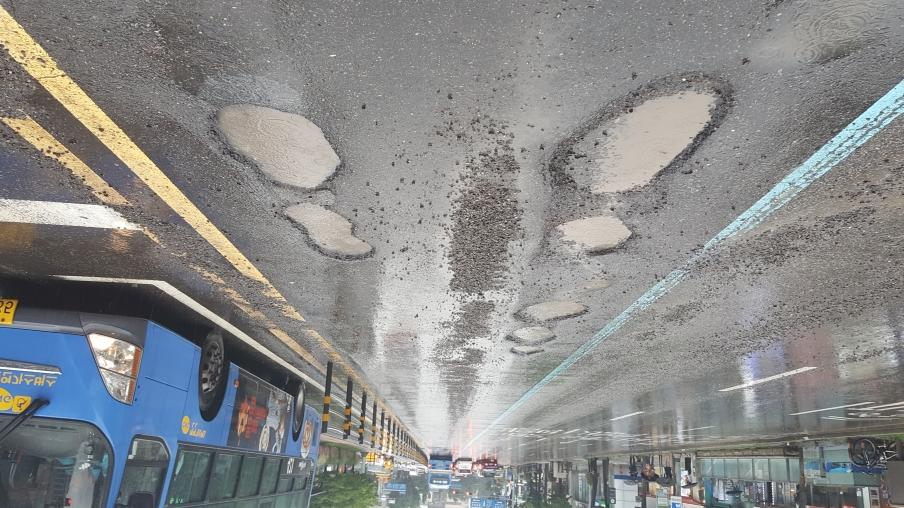pothole: (526, 62, 740, 207), (200, 96, 356, 193), (529, 200, 655, 268), (262, 202, 380, 268), (493, 322, 565, 368), (505, 290, 596, 326)
